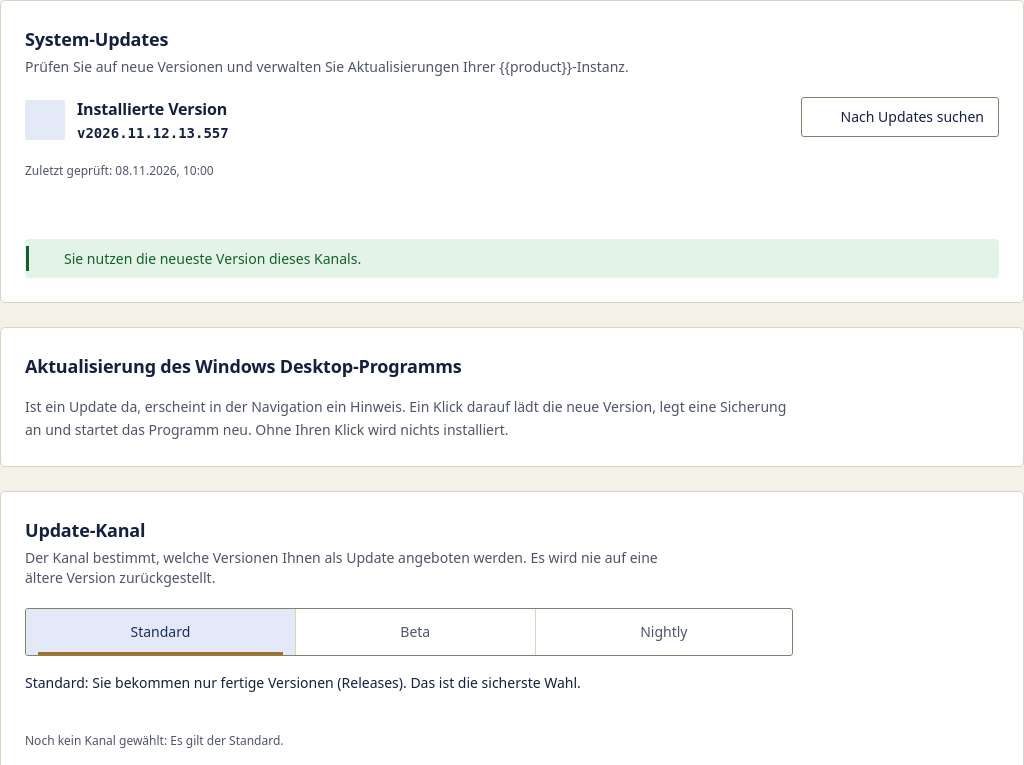
Test: update page: status › always lets the user search for updates and shows the answer
Click the button with test id "updates-check": (900, 117) x1=801 y1=97 x2=999 y2=137
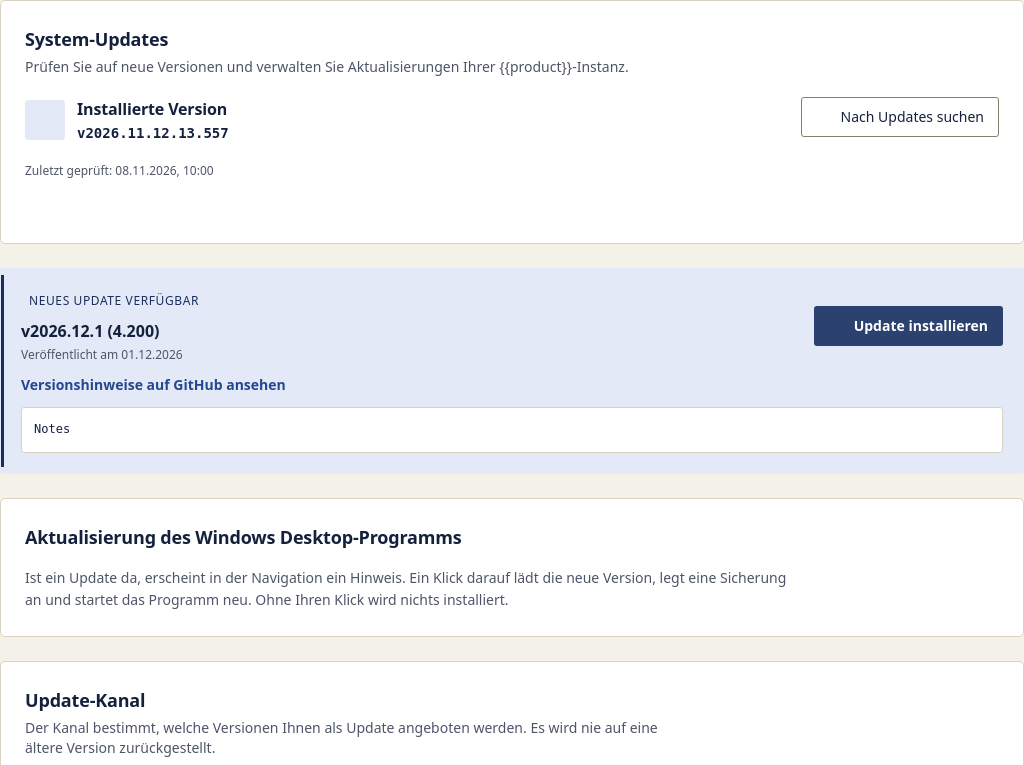
Expected: the element with test id "update-available" shows "v2026.12.1 (4.200)", x1=21 y1=320 x2=160 y2=342
